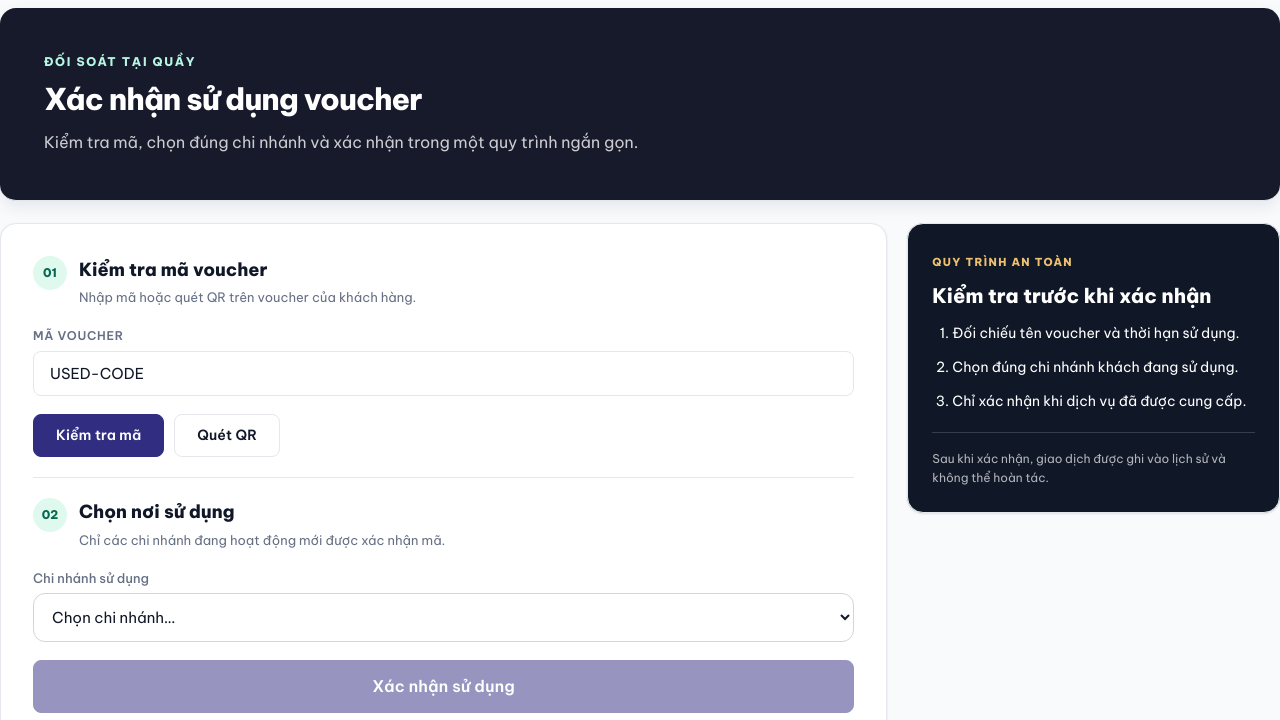
RedeemCodePage › shows the already-redeemed message for a used code (Req 19.2)
Check: the dropdown with test id "branch-select" is shown, box [33, 593, 854, 642]
Step 1. Click the button with test id "validate-code-btn" → (99, 436), box [33, 414, 164, 457]
(page scrolled)
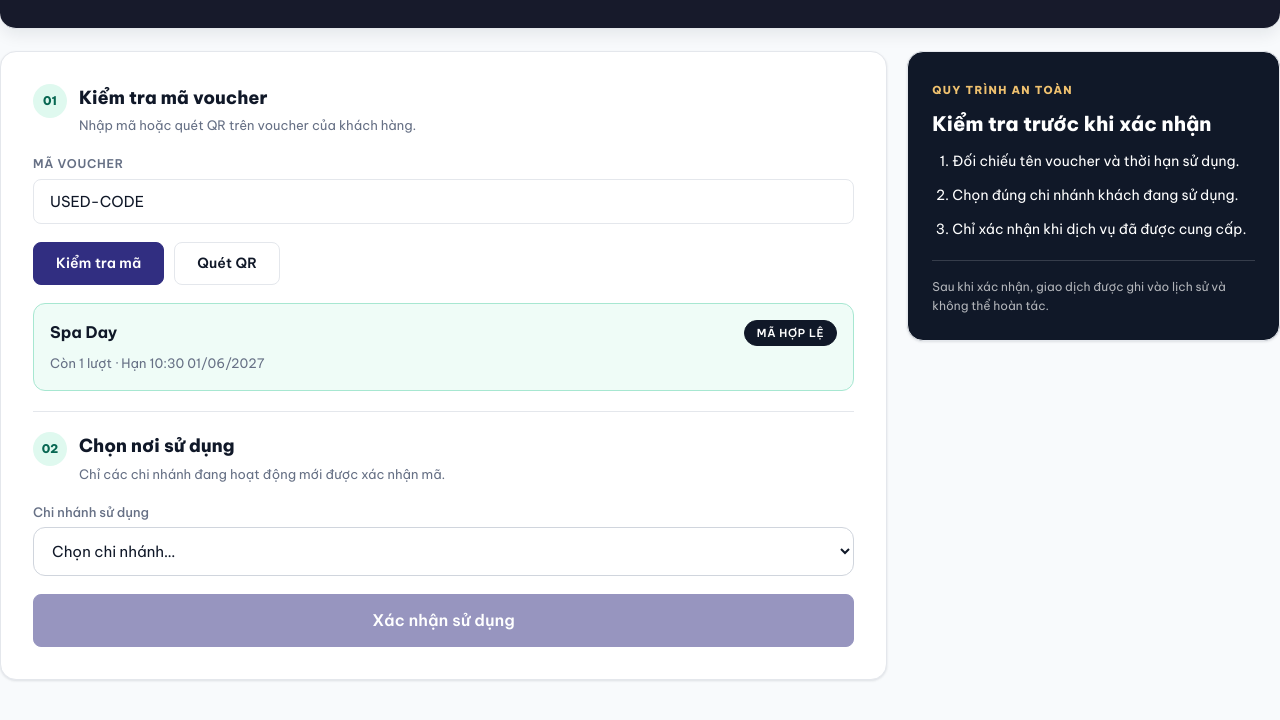
Check: the text "Mã hợp lệ" is shown, box [744, 320, 837, 346]
Step 2. Select "Downtown Spa — Hà Nội" in the dropdown with test id "branch-select" → (444, 552), box [33, 527, 854, 576]
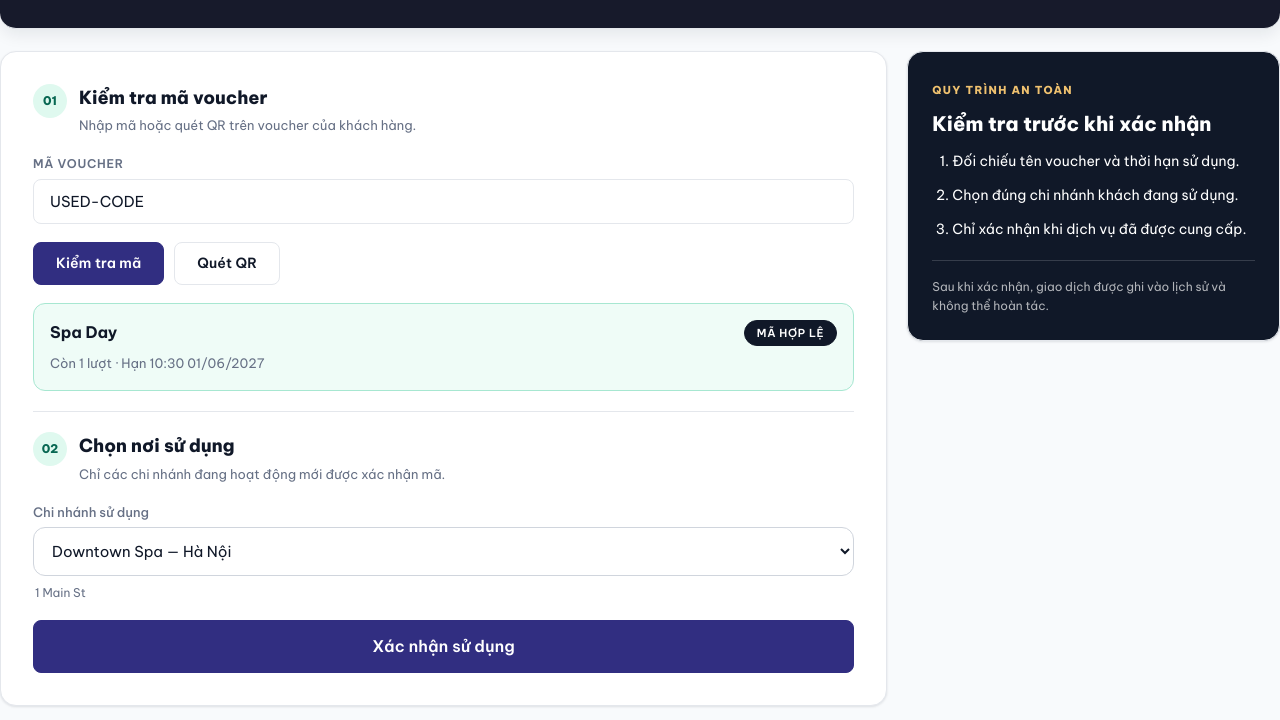
Step 3. Click the button "Xác nhận sử dụng" → (444, 647), box [33, 620, 854, 673]
(page scrolled)
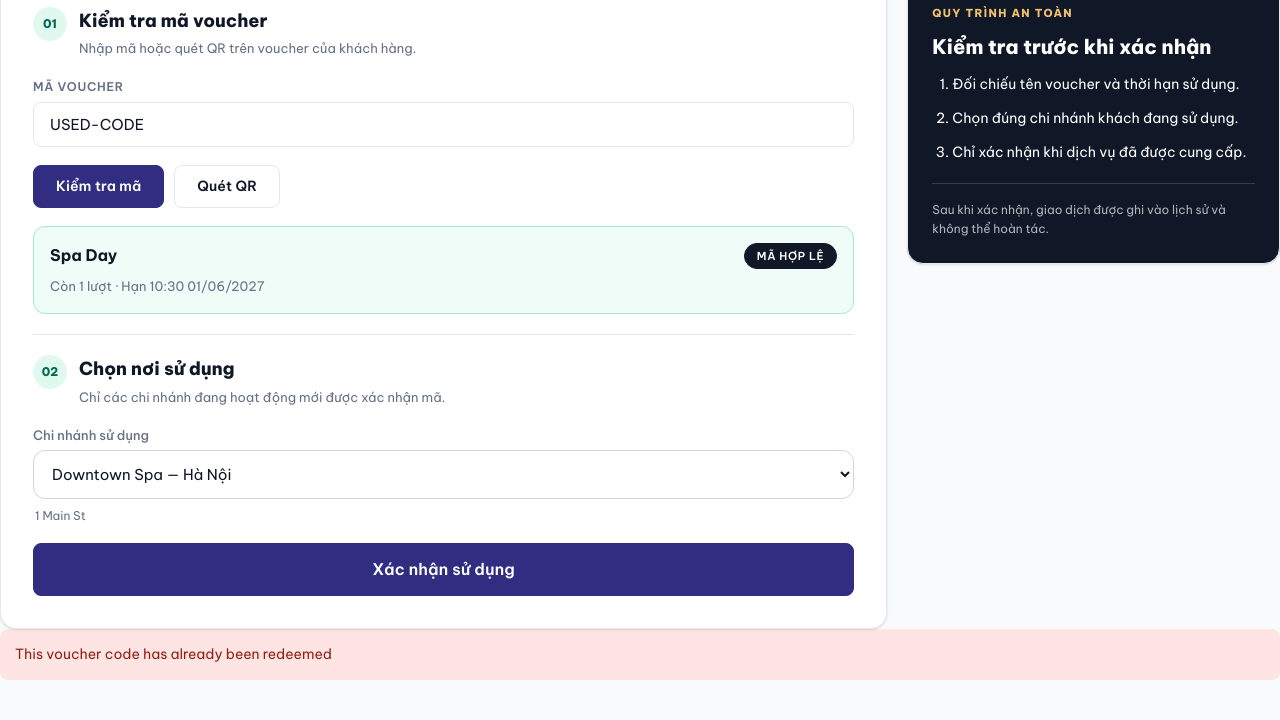
Check: the message with test id "redeem-error" shows "already been redeemed", box [15, 645, 332, 663]
